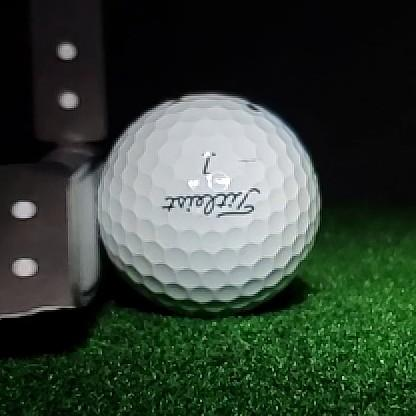golfball: (97, 94, 320, 315)
